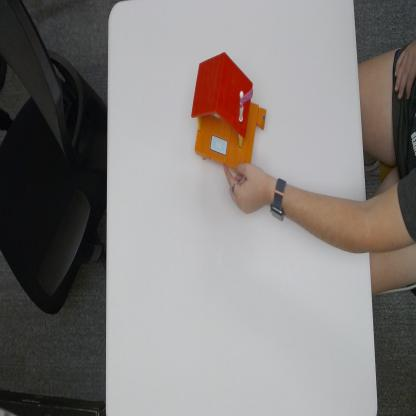Arm: (286, 183, 372, 252)
Hand: (223, 161, 270, 216)
House: (193, 53, 268, 170)
